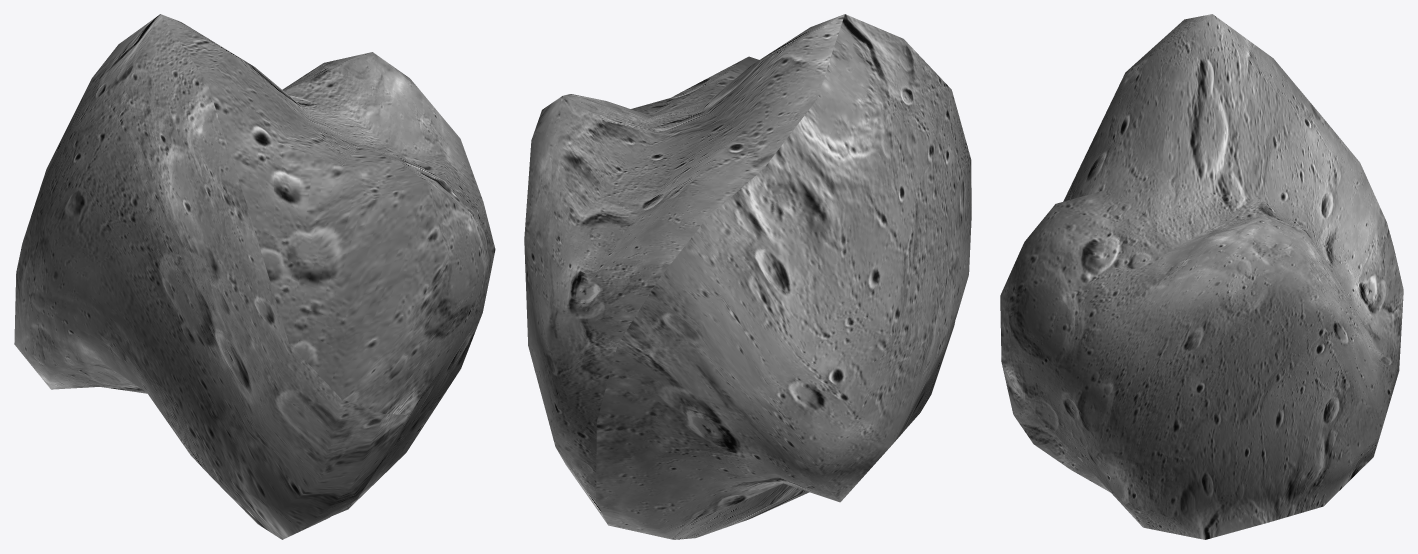
Rendered from asteroid08.FBX.
3 renders of one model, left to right at view 1: azimuth 30°, elevation 25°; view 2: azimuth 150°, elevation 25°; view 3: azimuth 270°, elevation 25°, orthographic. The views are drawn at different scales.
Visible parts, largest first — view 1: Asteroid008; view 2: Asteroid008; view 3: Asteroid008.
Part boxes in pixels (x1,y1,x2,y2): Asteroid008: (14,14,495,539); Asteroid008: (524,14,971,539); Asteroid008: (1000,14,1403,539).
Size of the model in its own units: 96.31 by 119 by 94.78.
Materials: 1 (1 with a texture image).
